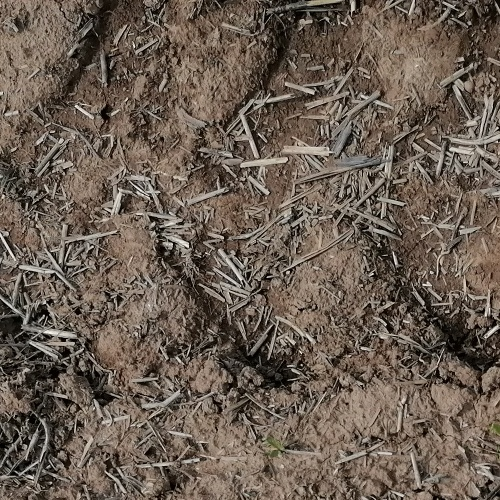beet: (265, 437, 287, 458)
